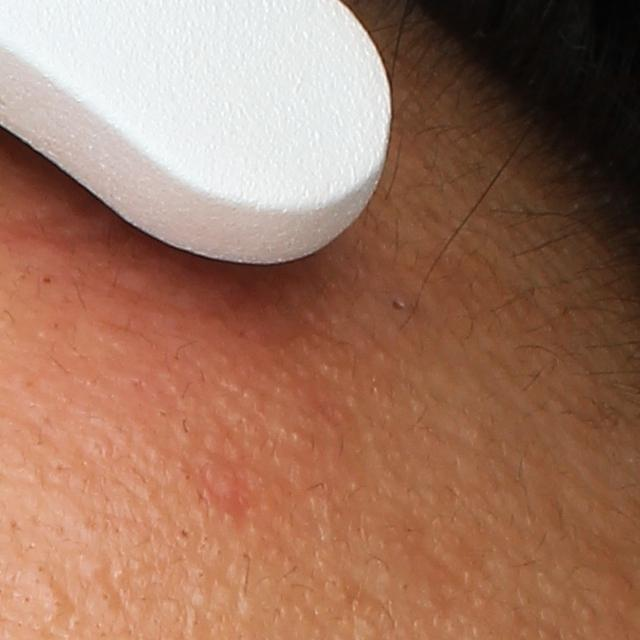comedo: (41, 588, 72, 619), (80, 556, 107, 583), (175, 523, 197, 546), (91, 590, 114, 609)
